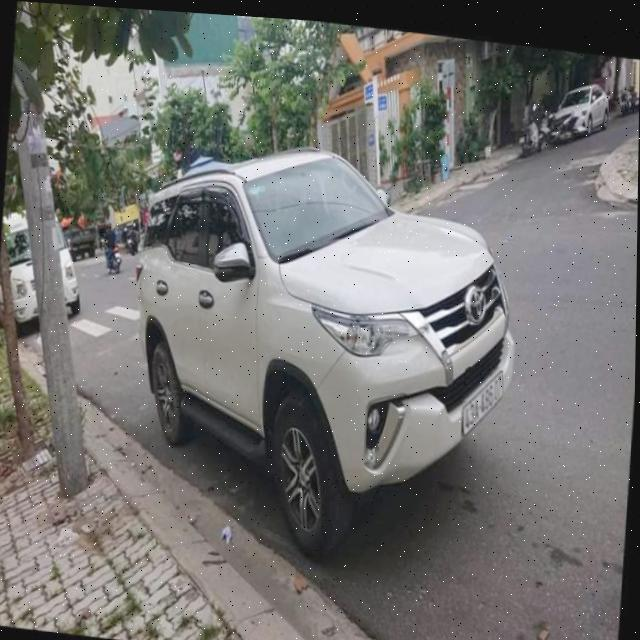car: (121, 136, 531, 578)
plate: (458, 365, 508, 445)
